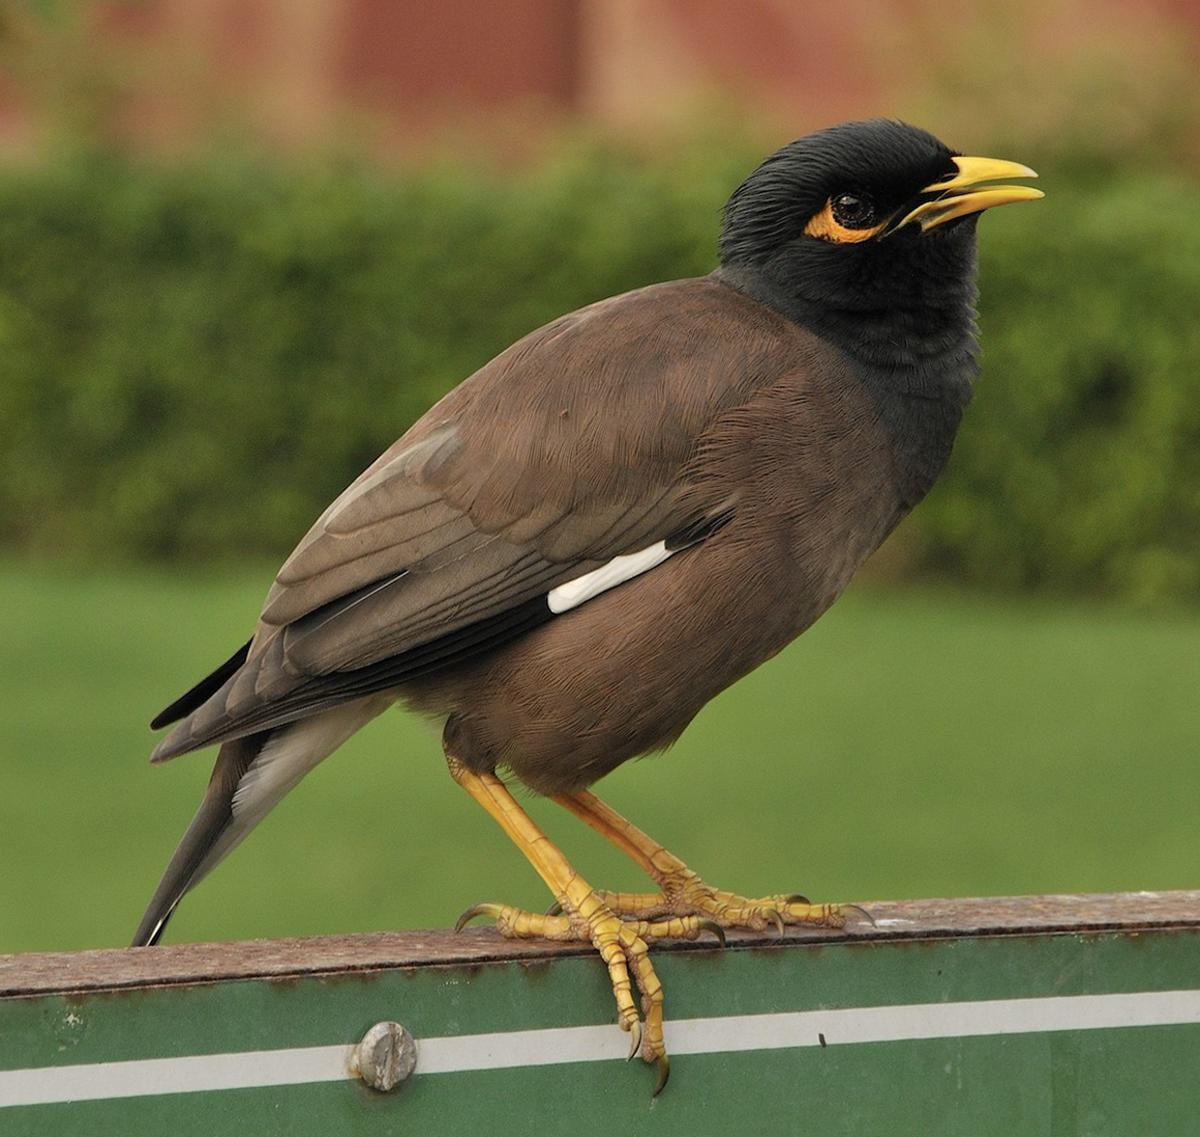myna: (230, 120, 1067, 943)
